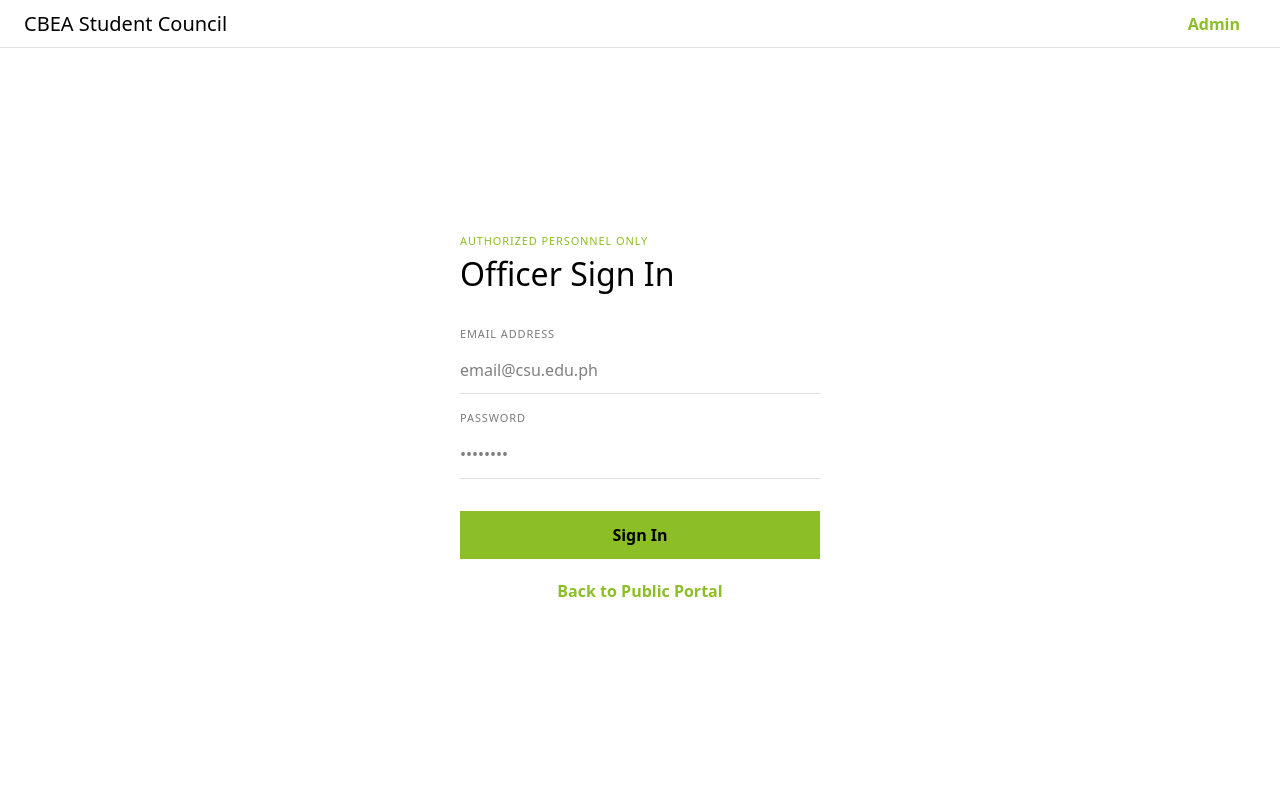
Test case: LoginPage Component › displays error message when authentication fails with Email not confirmed
In the field with test id "email-input": (640,370) x1=460 y1=346 x2=820 y2=394, type "unconfirmed@csu.edu.ph"
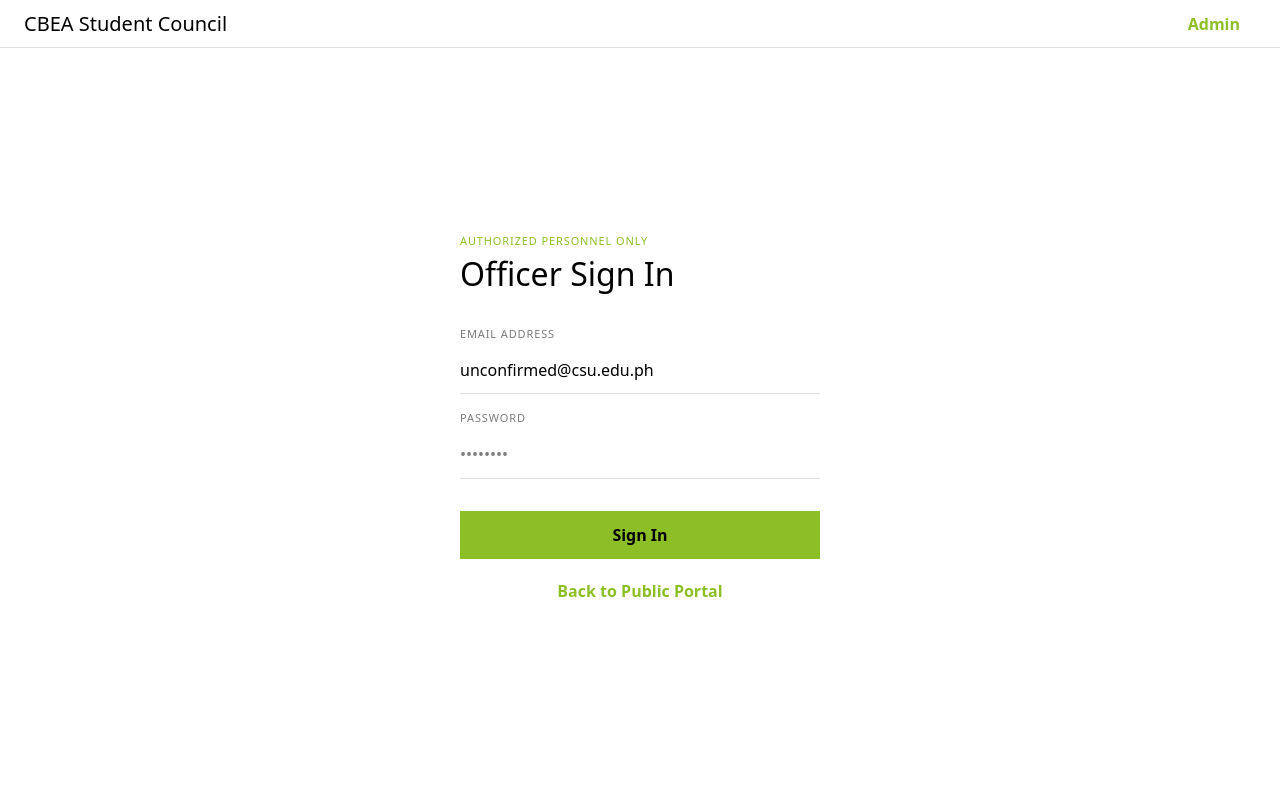
In the password field with test id "password-input": (640,455) x1=460 y1=431 x2=820 y2=479, type "password"
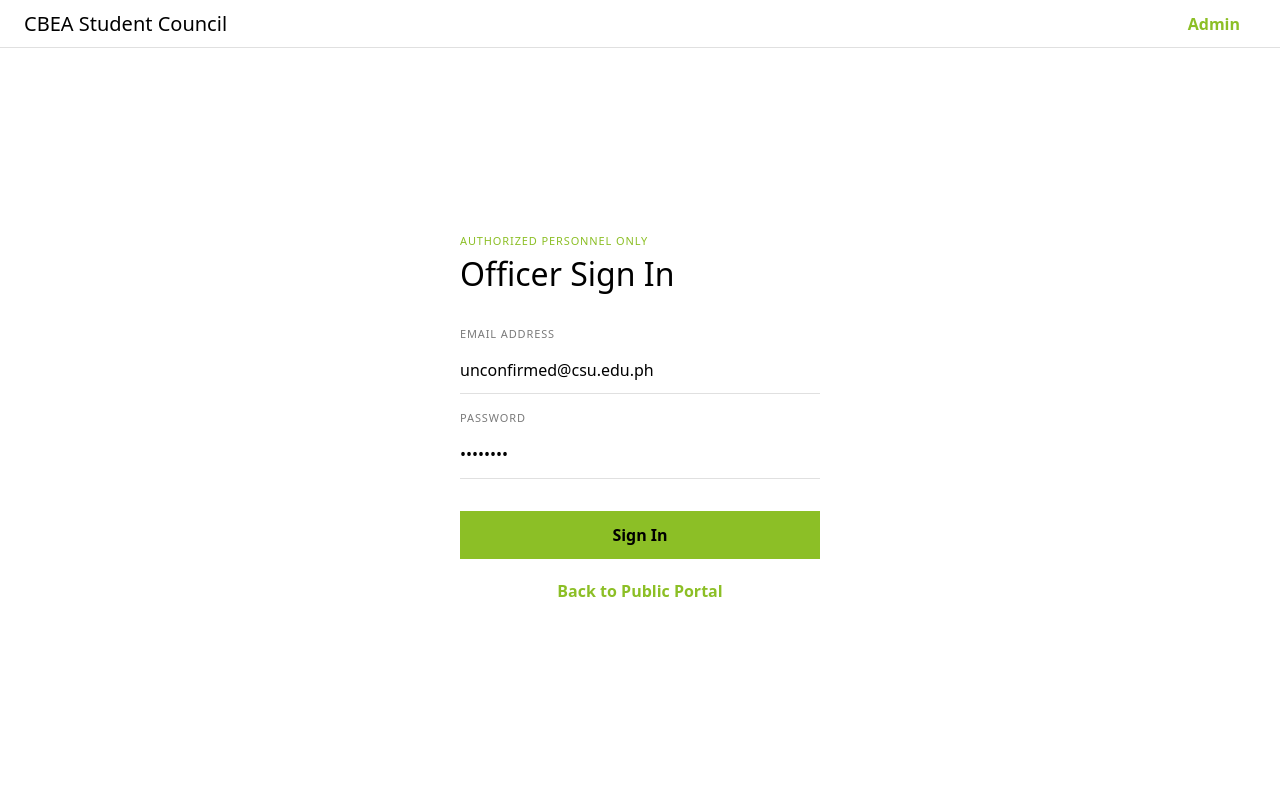
Submit the form with test id "email-input", box x1=460 y1=326 x2=820 y2=615
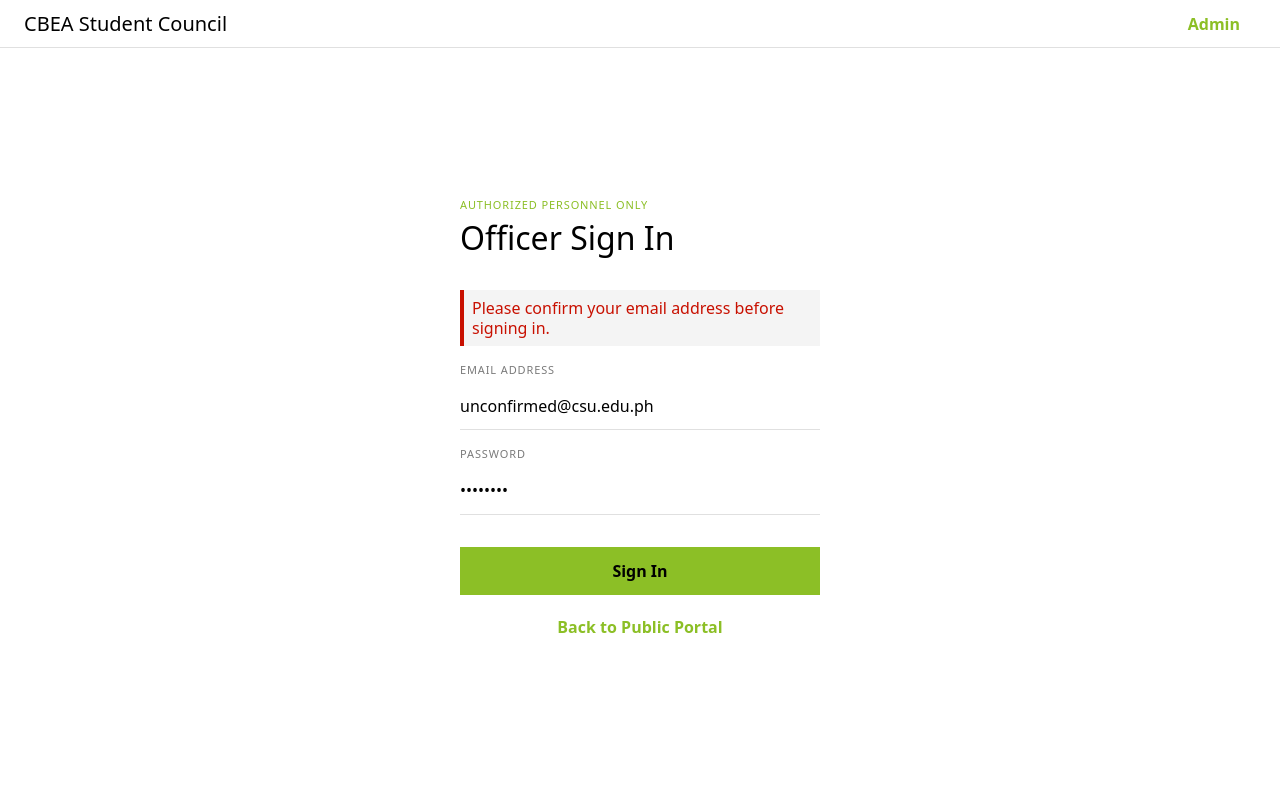
Expected: the message with test id "login-error-message" reads "Please confirm your email address before signing in.", x1=472 y1=297 x2=784 y2=339
